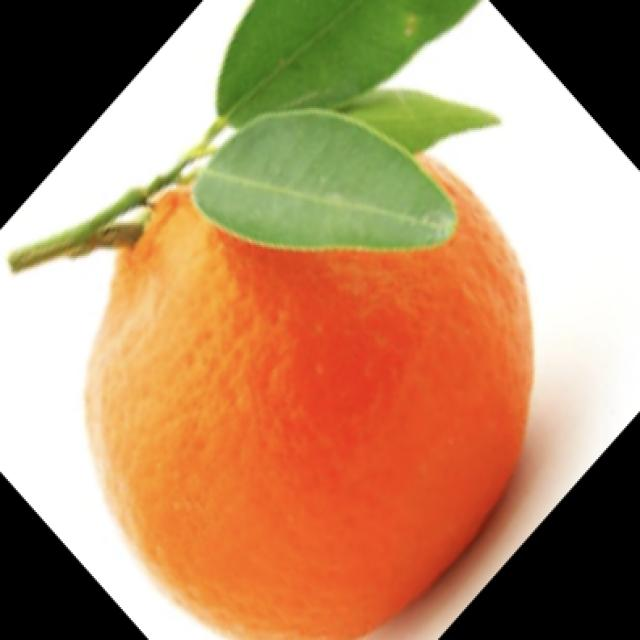fresh: (7, 0, 525, 640)
